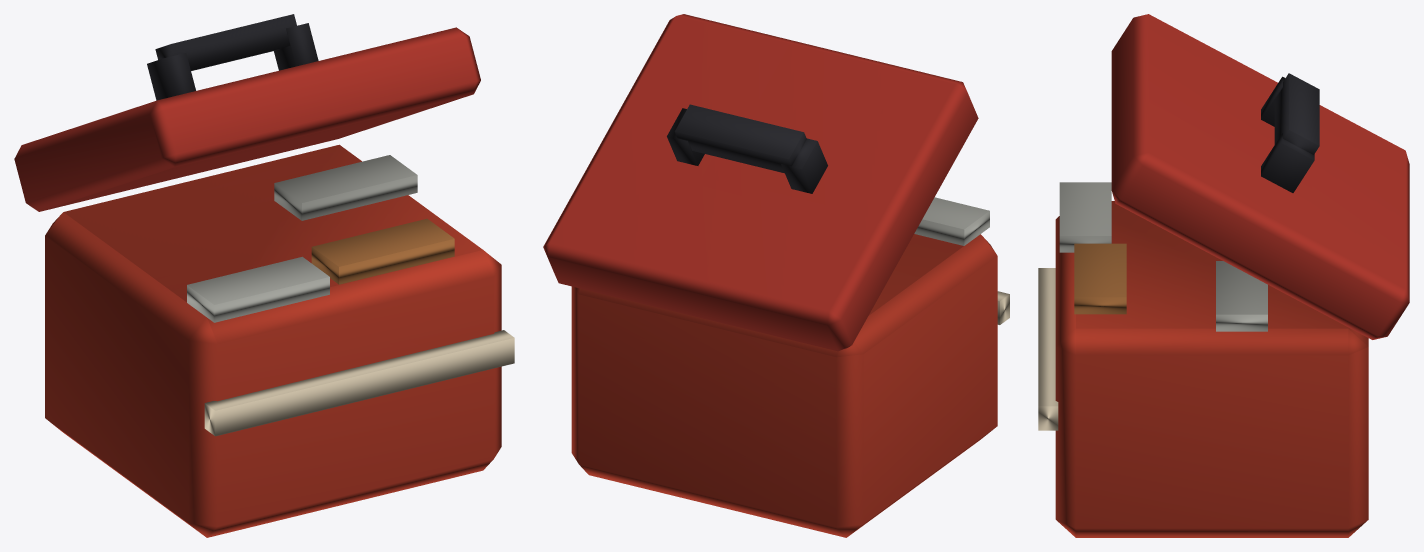
Rendered from cargo_toolbox_spilled.glb.
The picture shows the model from 3 angles, left to right: view 1: azimuth 30°, elevation 25°; view 2: azimuth 150°, elevation 25°; view 3: azimuth 270°, elevation 25°; orthographic projection. The views are drawn at different scales.
Parts seen in each view (by area): view 1: Red tool chest, Painted lid; view 2: Painted lid, Red tool chest; view 3: Red tool chest, Painted lid.
Part boxes in pixels (box(x1,y1,x2,y2)): Red tool chest: box(45, 144, 514, 537); Painted lid: box(14, 14, 480, 211); Painted lid: box(543, 14, 978, 351); Red tool chest: box(571, 197, 1009, 537); Red tool chest: box(1038, 182, 1368, 537); Painted lid: box(1111, 14, 1409, 339).
Size of the model in its own units: 0.47 by 0.5791 by 0.4987.
